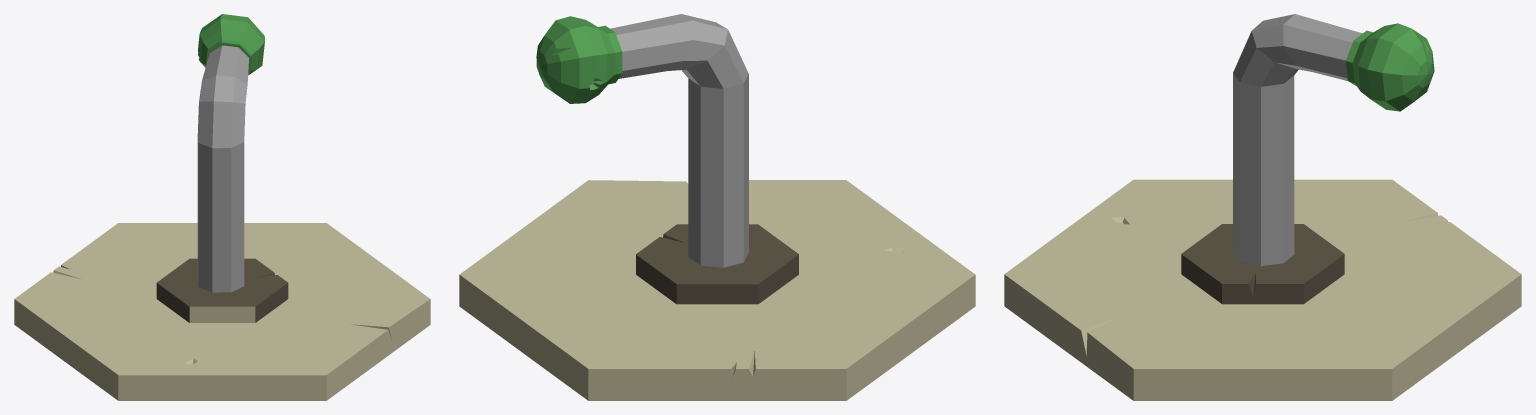
Rendered from crank.fbx.
The picture shows the model from 3 angles, left to right: view 1: azimuth 30°, elevation 25°; view 2: azimuth 150°, elevation 25°; view 3: azimuth 270°, elevation 25°; orthographic projection. The views are drawn at different scales.
Parts seen in each view (by area): view 1: Circle, Circle.001; view 2: Circle, Circle.001; view 3: Circle, Circle.001.
Part boxes in pixels (box(x1,y1,x2,y2)): Circle: box(14, 223, 430, 400); Circle.001: box(197, 14, 264, 292); Circle: box(459, 180, 975, 400); Circle.001: box(536, 14, 748, 267); Circle: box(1004, 179, 1521, 400); Circle.001: box(1233, 14, 1434, 265).
Bounding box in the file's own units: 173 × 134 × 200.
